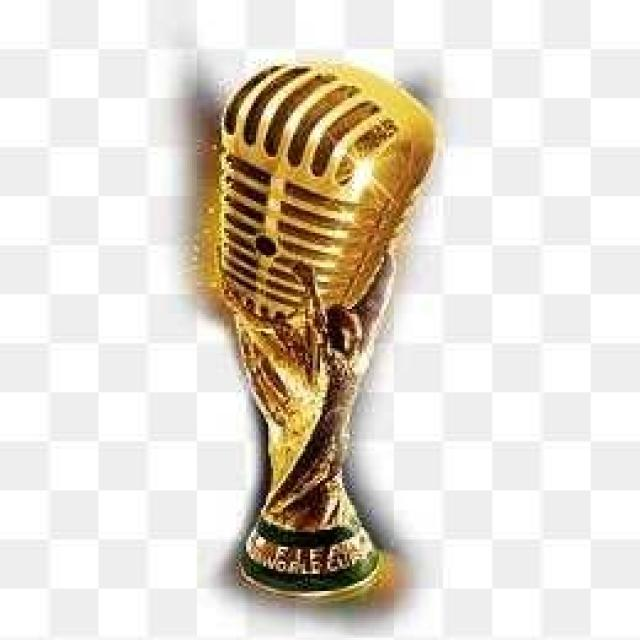microphone: (202, 56, 441, 597)
